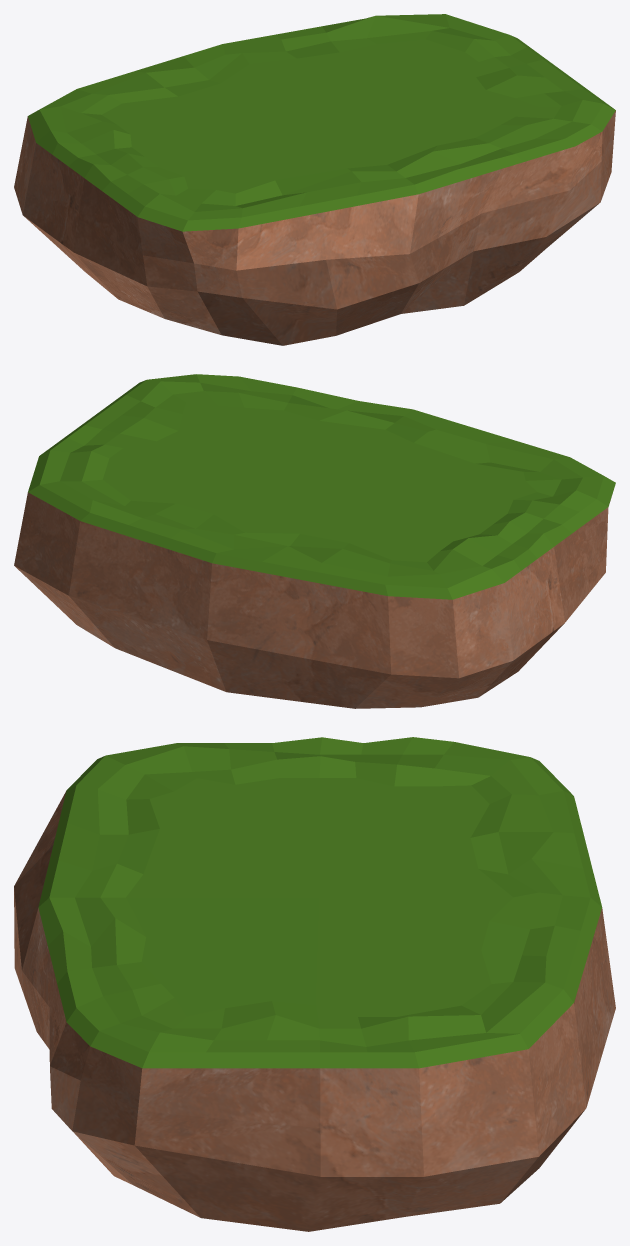
The model's file is Asteroid.v0.fbx.
3 views of the same model, one above another, from view 1: azimuth 30°, elevation 25°; view 2: azimuth 150°, elevation 25°; view 3: azimuth 270°, elevation 25° (orthographic). The views are drawn at different scales.
Visible parts, largest first — view 1: Asteroid.v0.Grass, Asteroid.v0.Base; view 2: Asteroid.v0.Grass, Asteroid.v0.Base; view 3: Asteroid.v0.Grass, Asteroid.v0.Base.
Part boxes in pixels (x1=…): Asteroid.v0.Grass: x1=28, y1=14, x2=615, y2=231; Asteroid.v0.Base: x1=14, y1=110, x2=615, y2=345; Asteroid.v0.Grass: x1=28, y1=374, x2=615, y2=599; Asteroid.v0.Base: x1=14, y1=492, x2=610, y2=708; Asteroid.v0.Grass: x1=38, y1=737, x2=602, y2=1068; Asteroid.v0.Base: x1=14, y1=791, x2=615, y2=1231.
Bounding box in the file's own units: 655 × 210 × 494.
2 materials, 1 textured.
